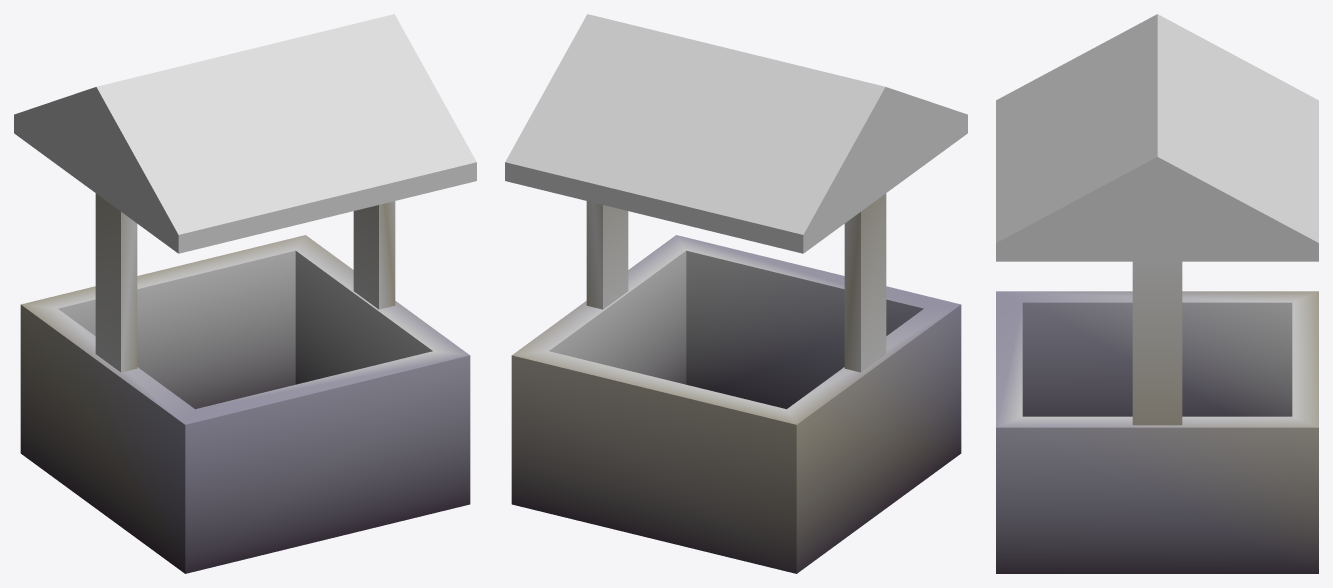
Rendered from ColodecV3.fbx.
3 views of the same model, side by side, from view 1: azimuth 30°, elevation 25°; view 2: azimuth 150°, elevation 25°; view 3: azimuth 270°, elevation 25° (orthographic).
Visible parts, largest first — view 1: Kolodec; view 2: Kolodec; view 3: Kolodec.
Part boxes in pixels (x1,y1,x2,y2): Kolodec: (14, 14, 476, 573); Kolodec: (505, 14, 967, 573); Kolodec: (996, 14, 1318, 573).
Bounding box in the file's own units: 154 × 211 × 147.
